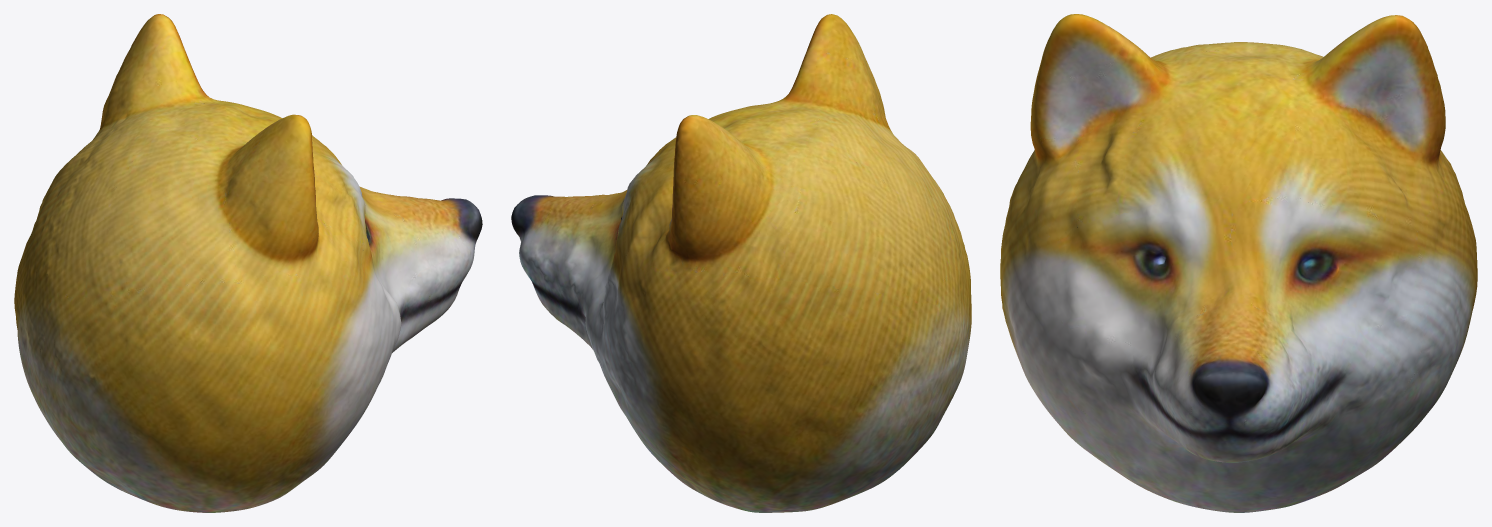
The model's file is doge.obj.
3 renders of one model, left to right at view 1: azimuth 30°, elevation 25°; view 2: azimuth 150°, elevation 25°; view 3: azimuth 270°, elevation 25°, orthographic. The views are drawn at different scales.
Parts seen in each view (by area): view 1: Mesh1; view 2: Mesh1; view 3: Mesh1.
Part boxes in pixels (x1,y1,x2,y2): Mesh1: [14, 14, 482, 512]; Mesh1: [511, 14, 971, 512]; Mesh1: [1000, 14, 1477, 512].
Size of the model in its own units: 1.2 by 1.13 by 0.9934.
Materials: 1 (1 with a texture image).
